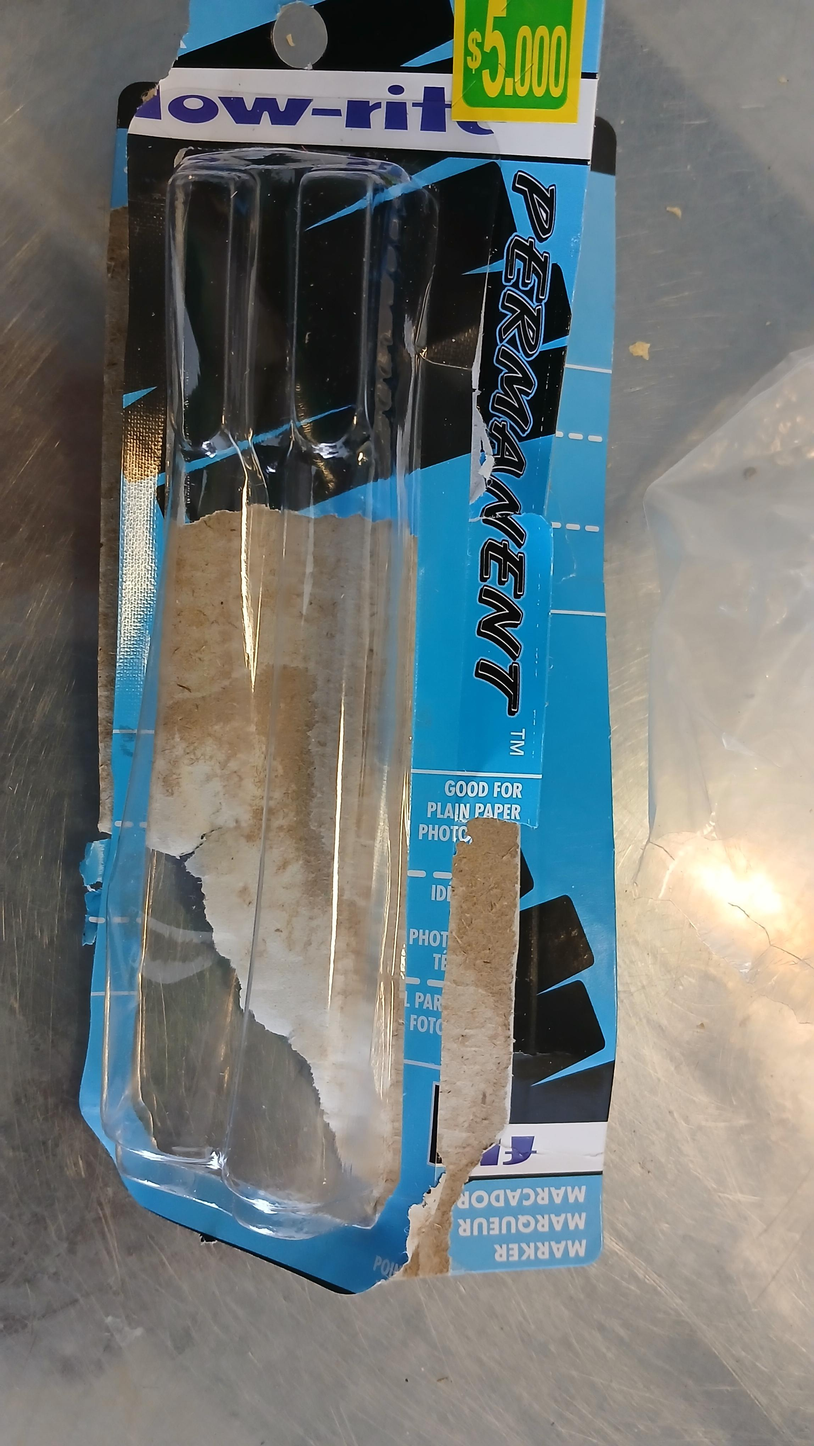Carton: (75, 0, 617, 1293)
